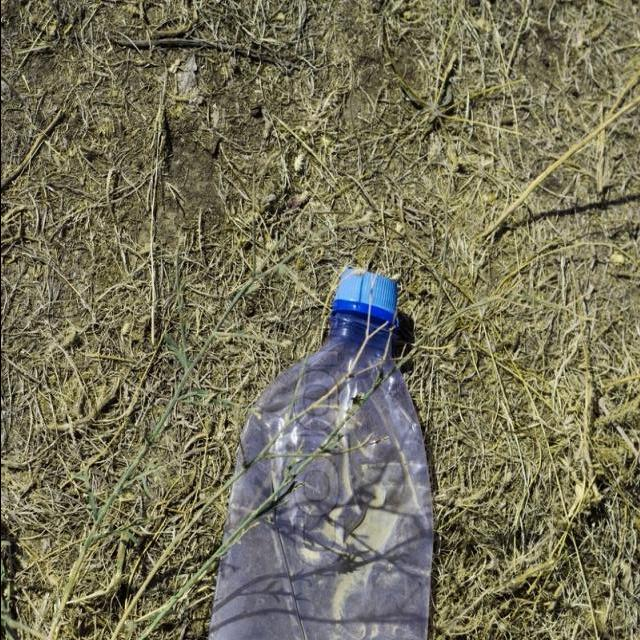cap: (325, 262, 402, 318)
crumbled: (198, 261, 434, 640)
